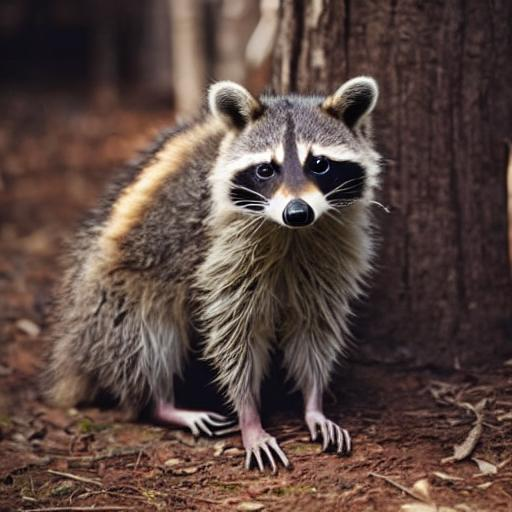raccoon: (36, 67, 401, 410)
